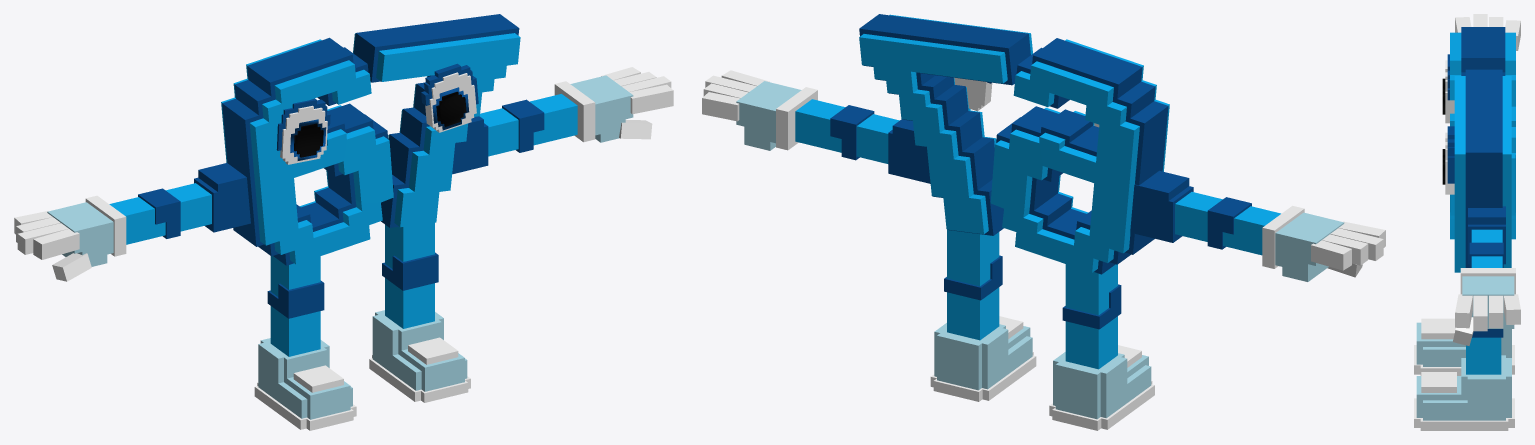
Rendered from 67_brainrot.glb.
3 views of the same model, side by side, from view 1: azimuth 30°, elevation 25°; view 2: azimuth 150°, elevation 25°; view 3: azimuth 270°, elevation 25° (orthographic). The views are drawn at different scales.
Parts seen in each view (by area): view 1: Object_6, Object_5, Object_4, Object_3, Object_2; view 2: Object_6, Object_5, Object_3, Object_4; view 3: Object_5, Object_6, Object_4, Object_3, Object_2.
Boxes of the visible parts, x1,y1,x2,y2 form: Object_6: (109,33,577,356); Object_5: (138,14,544,318); Object_4: (14,67,673,430); Object_3: (47,75,633,419); Object_2: (294,91,466,157); Object_6: (795,14,1280,369); Object_5: (830,14,1251,329); Object_3: (736,81,1344,419); Object_4: (702,70,1385,430); Object_5: (1447,27,1505,337); Object_6: (1450,32,1515,374); Object_4: (1414,14,1520,430); Object_3: (1416,276,1514,420); Object_2: (1442,78,1445,184).
Size of the model in its own units: 17.5 by 8.85 by 2.62.
